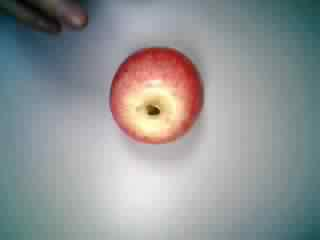apple: (105, 45, 209, 149)
